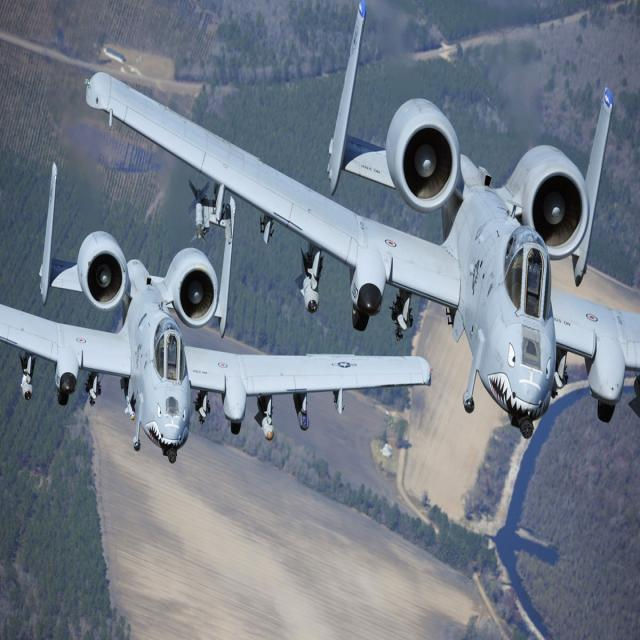A10: (87, 0, 640, 436), (0, 148, 436, 476)
